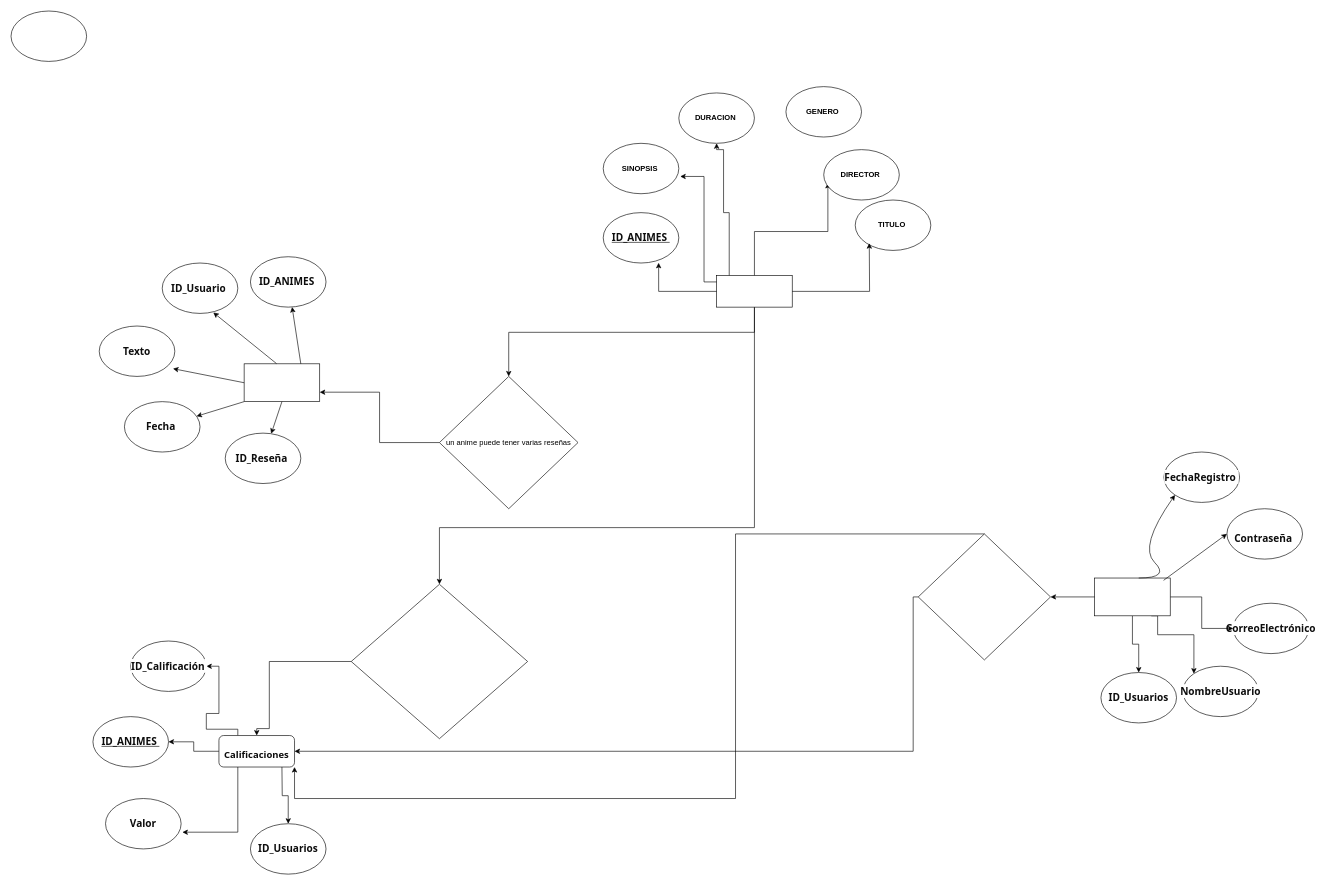
Some shapes in this 1329 by 885 pixel diagram are drawn without their labels. The shapes that lost their labels are listed below. From the top down, each one's box as (x1, y1, x2, y2) in pixels, then its label:
(716, 275, 792, 307): ANIMES
(243, 363, 320, 402): Reseñas
(918, 533, 1051, 660): un usuario puede hacer varias reseñas y calificaf
(1094, 577, 1170, 616): Usuarios
(351, 584, 528, 739): un anime puede tener varias calificaciones
